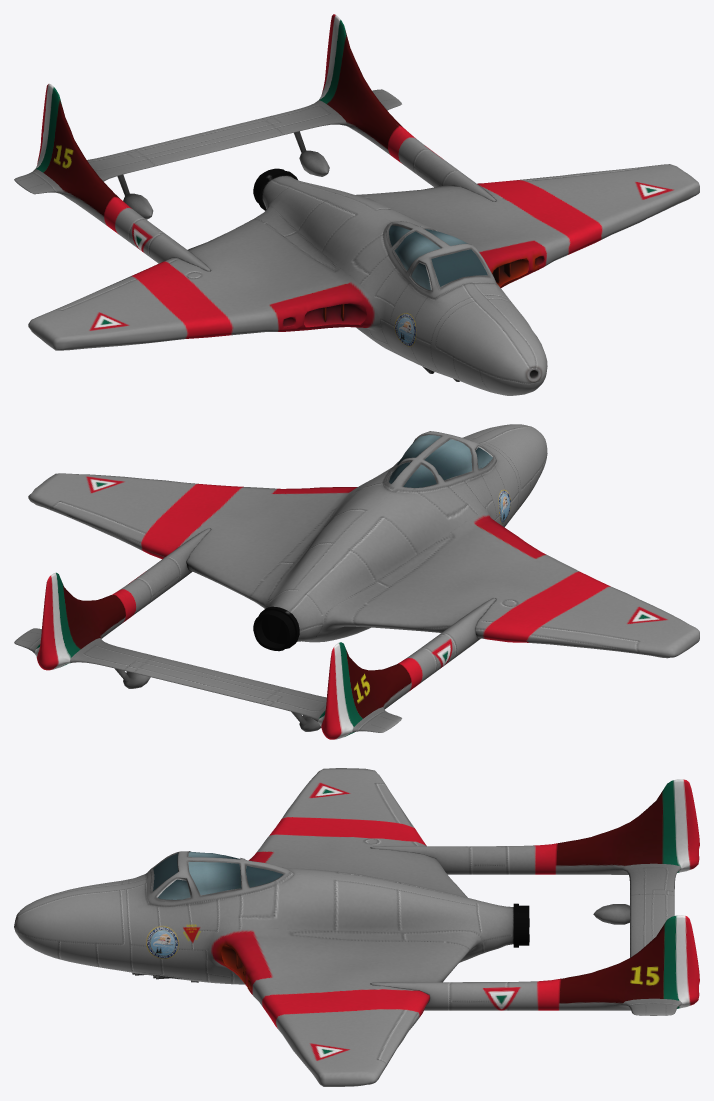
3 views of the same model, one above another, from view 1: azimuth 30°, elevation 25°; view 2: azimuth 150°, elevation 25°; view 3: azimuth 270°, elevation 25° (orthographic). The views are drawn at different scales.
Parts seen in each view (by area): view 1: vamp4; view 2: vamp4; view 3: vamp4.
Boxes of the visible parts, x1,y1,x2,y2 form: vamp4: [14, 14, 699, 395]; vamp4: [14, 424, 699, 739]; vamp4: [14, 768, 699, 1086].
Size of the model in its own units: 107 by 21.42 by 101.
Materials: 1 (1 with a texture image).
